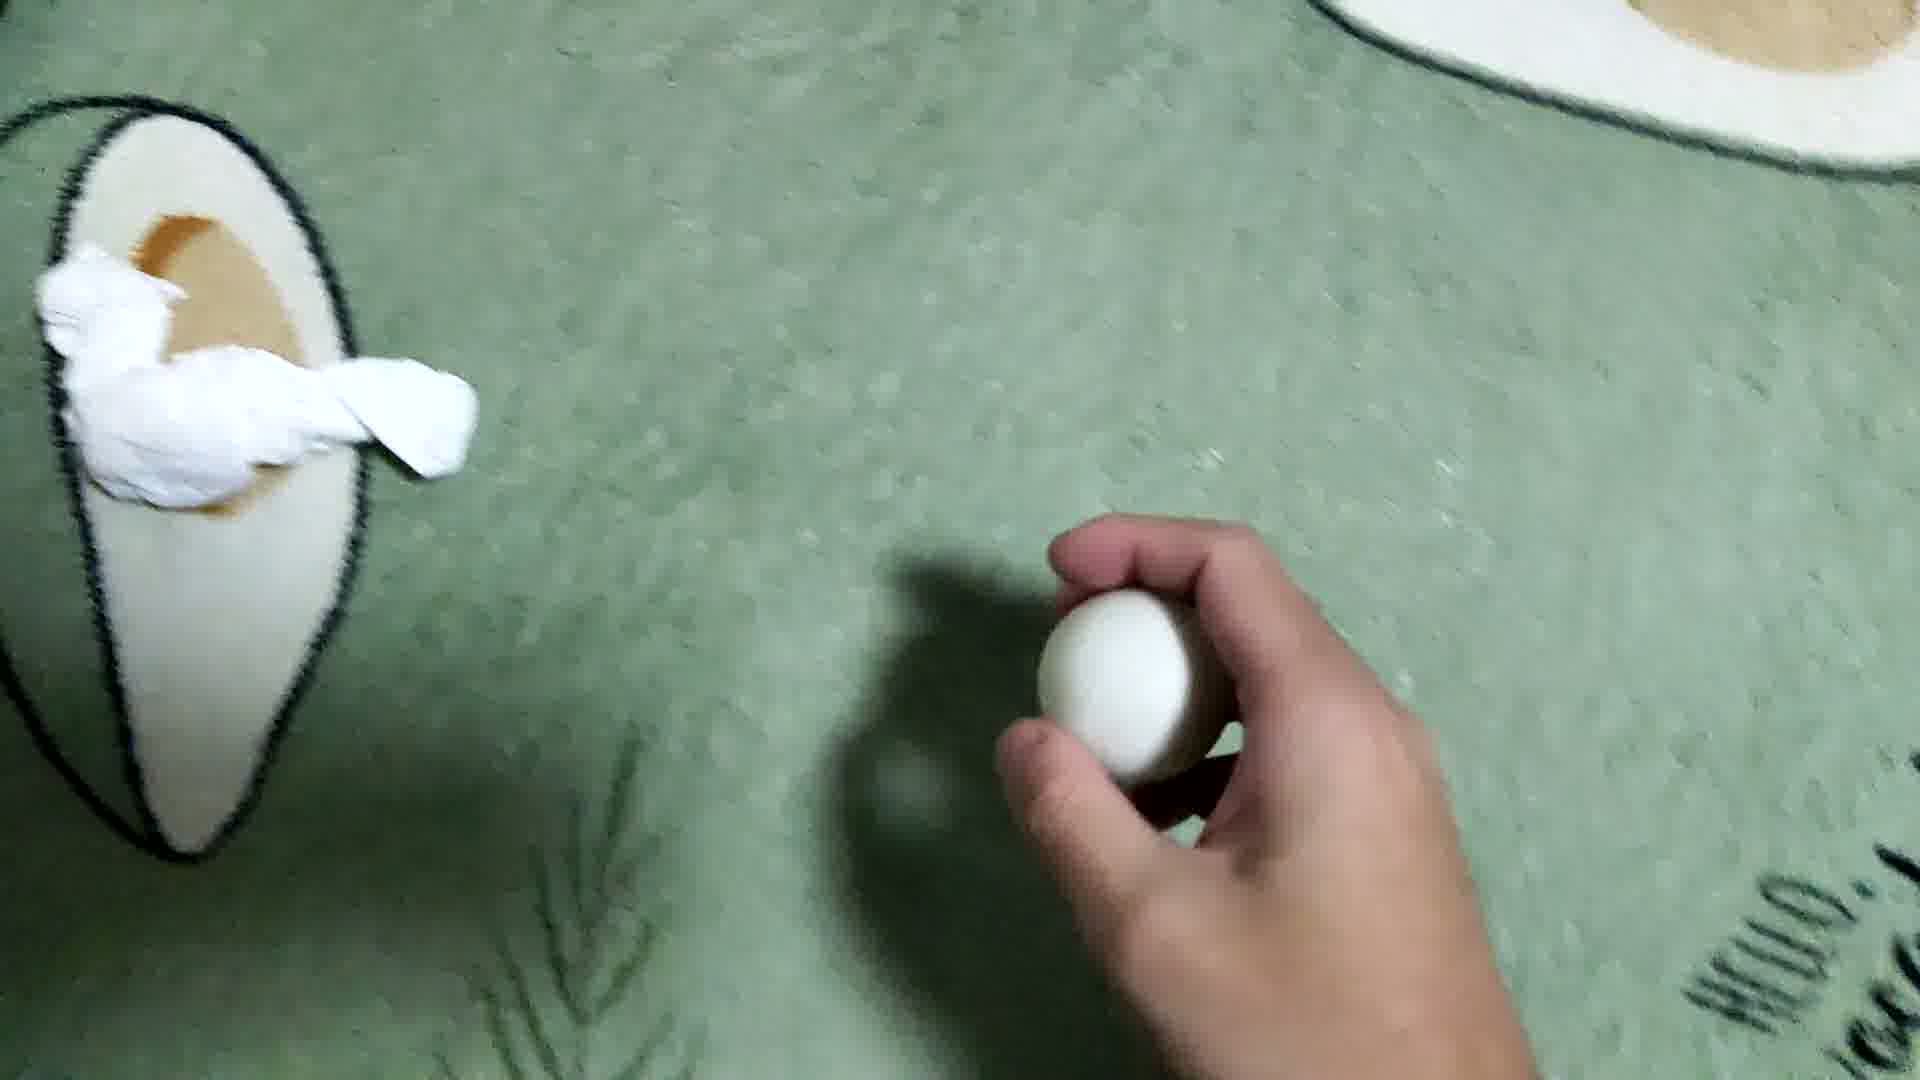Ball: (1035, 589, 1225, 779)
